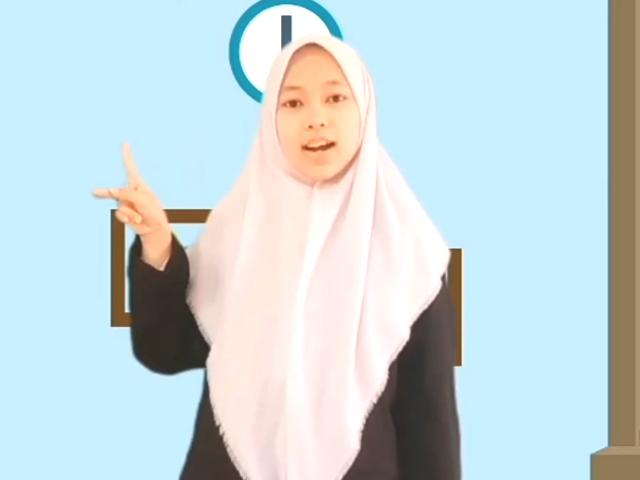K: (91, 142, 167, 238)
